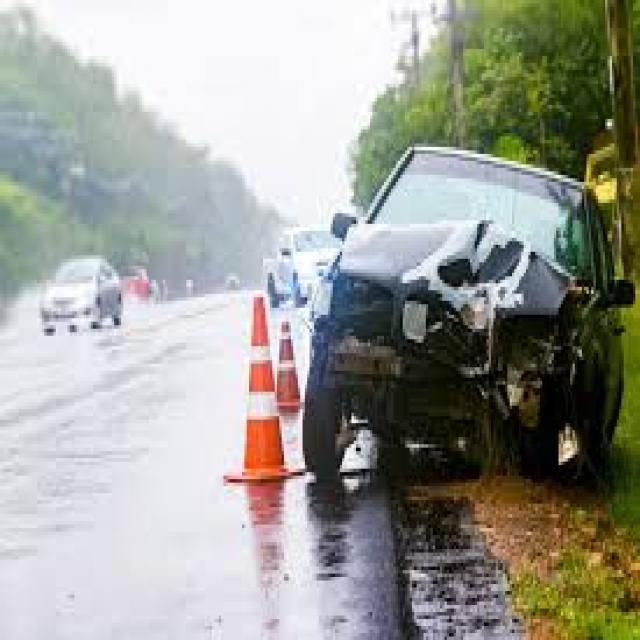accident: (272, 119, 614, 488)
